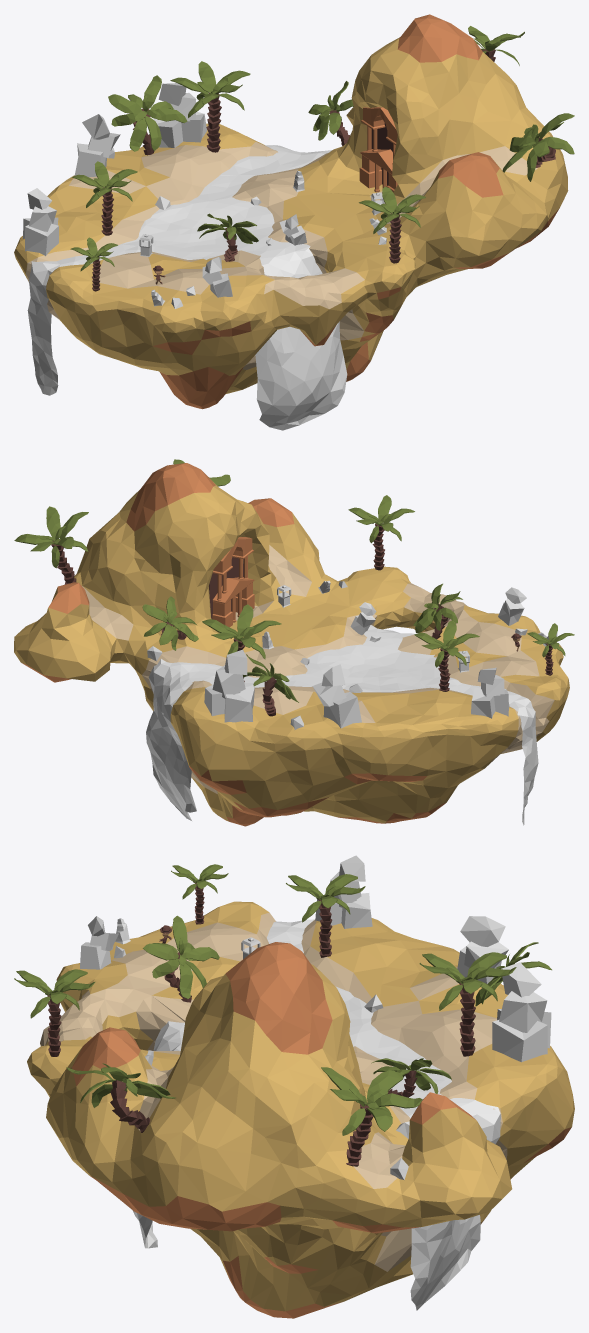
Rendered from S_Island_Schematic.fbx.
3 renders of one model, top to bottom at view 1: azimuth 30°, elevation 25°; view 2: azimuth 150°, elevation 25°; view 3: azimuth 270°, elevation 25°, orthographic. The views are drawn at different scales.
Visible parts, largest first — view 1: S_Island_R, S_Water_R, Palm_2_R.001, Tomb__R, Palm_1_R.001, S_Rock_Formation_2_R.002, Palm_2_R.004, S_Rock_Formation_2_R.001, S_Rock_Formation_1_R.002, Palm_1_R.002, Palm_1_R.003, Palm_2_R.002 (+5 smaller); view 2: S_Island_R, S_Water_R, Tomb__R, S_Rock_Formation_2_R.002, Palm_1_R.005, S_Rock_Formation_1_R.002, S_Rock_Formation_2_R.001, Palm_1_R.001, Palm_1_R.002, Palm_2_R.002, Palm_1_R.003, Palm_2_R.003 (+4 smaller); view 3: S_Island_R, S_Water_R, S_Rock_Formation_2_R.002, Palm_1_R.005, Palm_1_R.001, Palm_2_R.003, Palm_2_R.004, Palm_1_R.002, Palm_1_R.003, S_Rock_Formation_2_R.001, S_Rock_Formation_1_R.002, S_Rock_Formation_1_R.001 (+3 smaller).
Boxes of the visible parts, x1,y1,x2,y2 form: S_Island_R: (14,14,568,409); S_Water_R: (27,145,347,430); Palm_2_R.001: (108,75,187,155); Tomb__R: (359,107,397,192); Palm_1_R.001: (170,61,250,152); S_Rock_Formation_2_R.002: (153,83,206,147); Palm_2_R.004: (502,113,574,181); S_Rock_Formation_2_R.001: (23,188,58,256); S_Rock_Formation_1_R.002: (74,114,120,177); Palm_1_R.002: (359,186,425,263); Palm_1_R.003: (72,161,137,235); Palm_2_R.002: (308,81,353,145); S_Island_R: (14,463,569,826); S_Water_R: (146,625,538,825); Tomb__R: (209,537,254,627); S_Rock_Formation_2_R.002: (204,649,254,722); Palm_1_R.005: (14,506,88,584); S_Rock_Formation_1_R.002: (290,664,361,729); S_Rock_Formation_2_R.001: (471,667,509,718); Palm_1_R.001: (202,604,281,681); Palm_1_R.002: (348,495,414,570); Palm_2_R.002: (142,596,198,650); Palm_1_R.003: (414,620,479,691); Palm_2_R.003: (413,583,462,639); S_Island_R: (27,901,574,1318); S_Water_R: (132,919,500,1310); S_Rock_Formation_2_R.002: (492,962,551,1062); Palm_1_R.005: (321,1067,422,1166); Palm_1_R.001: (419,952,516,1056); Palm_2_R.003: (143,915,219,1002); Palm_2_R.004: (66,1063,175,1132); Palm_1_R.002: (14,969,95,1056); Palm_1_R.003: (286,874,365,957); S_Rock_Formation_2_R.001: (315,855,372,928); S_Rock_Formation_1_R.002: (457,916,508,983); S_Rock_Formation_1_R.001: (80,916,125,969).
Bounding box in the file's own units: 28907 × 17861 × 21307.
